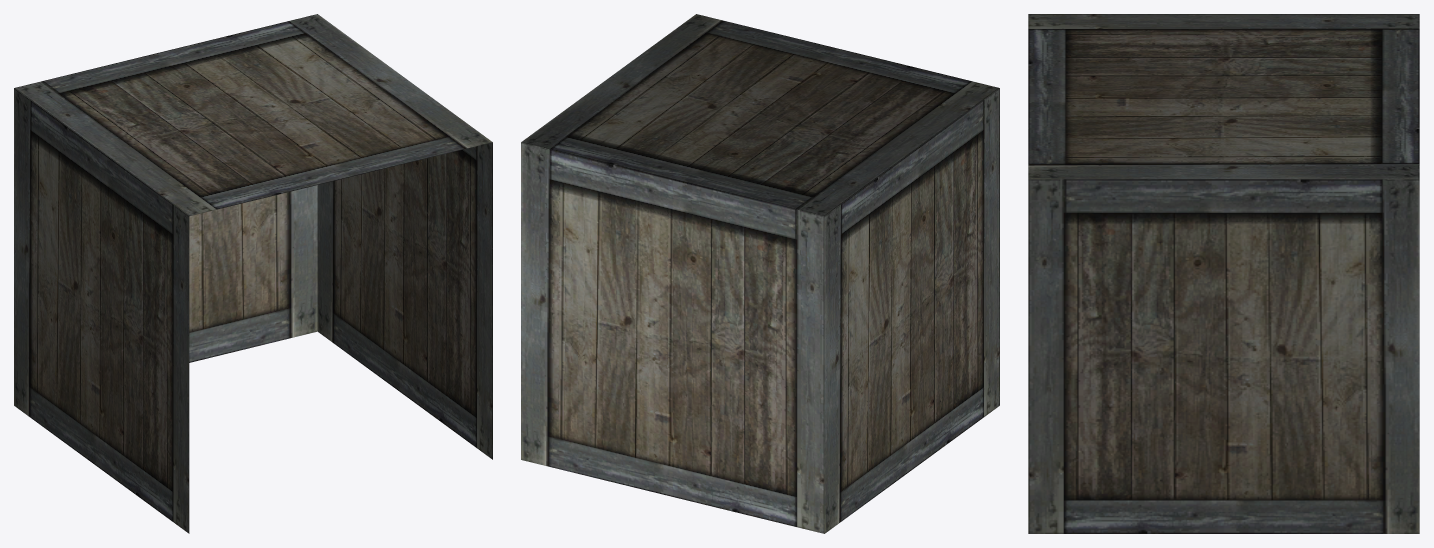
The model's file is medium_wood_box.fbx.
The picture shows the model from 3 angles, left to right: view 1: azimuth 30°, elevation 25°; view 2: azimuth 150°, elevation 25°; view 3: azimuth 270°, elevation 25°; orthographic projection. The views are drawn at different scales.
Visible parts, largest first — view 1: medium_wood_box.001; view 2: medium_wood_box.001; view 3: medium_wood_box.001.
Boxes of the visible parts, left/top/right/bottom form: medium_wood_box.001: left=14, top=14, right=492, bottom=533; medium_wood_box.001: left=521, top=14, right=999, bottom=533; medium_wood_box.001: left=1028, top=14, right=1419, bottom=533.
Bounding box in the file's own units: 1.22 × 1.22 × 1.22.
1 material, 1 textured.
